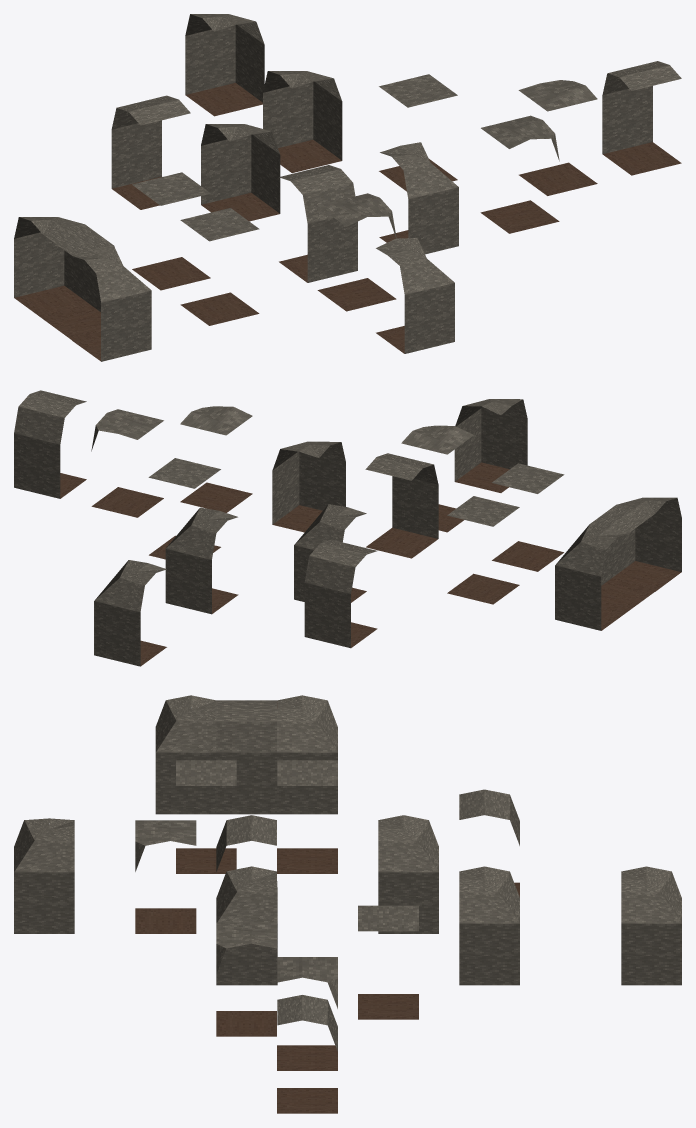
File: Keyman.glb
The picture shows the model from 3 angles, top to bottom: view 1: azimuth 30°, elevation 25°; view 2: azimuth 150°, elevation 25°; view 3: azimuth 270°, elevation 25°; orthographic projection. The views are drawn at different scales.
Parts seen in each view (by area): view 1: conerin-col, conerin-col.004, conerin-col.002, conerin-col.005, Wall-col, conerin-col.003, Wall-col.001, conerin-col.006, Wall-col.002, conerin-col.001, coner-col, coner-col.002 (+5 smaller); view 2: conerin-col.001, conerin-col.003, Wall-col.002, conerin-col.006, Wall-col, Wall-col.001, conerin-col.004, conerin-col, conerin-col.005, coner-col.002, coner-col, floor-col.001 (+5 smaller); view 3: conerin-col.004, conerin-col, conerin-col.003, Wall-col.003, conerin-col.006, conerin-col.002, conerin-col.001, conerin-col.005, coner-col.001, coner-col.002, floor-col, Wall-col (+5 smaller).
Boxes of the visible parts, box(x1,y1,x2,y2) form: conerin-col: box(185, 14, 264, 116); conerin-col.004: box(263, 71, 342, 172); conerin-col.002: box(201, 124, 280, 221); conerin-col.005: box(14, 217, 93, 318); Wall-col: box(602, 61, 681, 175); conerin-col.003: box(376, 238, 454, 353); Wall-col.001: box(279, 165, 357, 282); conerin-col.006: box(72, 246, 151, 361); Wall-col.002: box(111, 95, 190, 209); conerin-col.001: box(379, 142, 458, 254); coner-col: box(518, 80, 597, 195); coner-col.002: box(480, 115, 559, 233); conerin-col.001: box(272, 441, 345, 532); conerin-col.003: box(454, 399, 527, 492); Wall-col.002: box(304, 539, 377, 648); conerin-col.006: box(608, 497, 681, 591); Wall-col: box(14, 390, 86, 498); Wall-col.001: box(365, 453, 438, 558); conerin-col.004: box(165, 507, 238, 614); conerin-col: box(94, 560, 166, 666); conerin-col.005: box(555, 524, 627, 630); coner-col.002: box(180, 406, 252, 512); coner-col: box(91, 409, 163, 517); floor-col.001: box(447, 496, 519, 604); conerin-col.004: box(459, 866, 519, 985); conerin-col: box(621, 866, 681, 985); conerin-col.003: box(14, 818, 74, 933); Wall-col.003: box(216, 700, 276, 814); conerin-col.006: box(155, 695, 216, 814); conerin-col.002: box(378, 815, 438, 933); conerin-col.001: box(216, 866, 277, 985); conerin-col.005: box(277, 695, 337, 814); coner-col.001: box(135, 820, 196, 933); coner-col.002: box(216, 922, 276, 1036); floor-col: box(358, 905, 418, 1019); Wall-col: box(277, 995, 337, 1113).
Size of the model in its own units: 38.02 by 5.08 by 33.
Materials: 1 (1 with a texture image).
